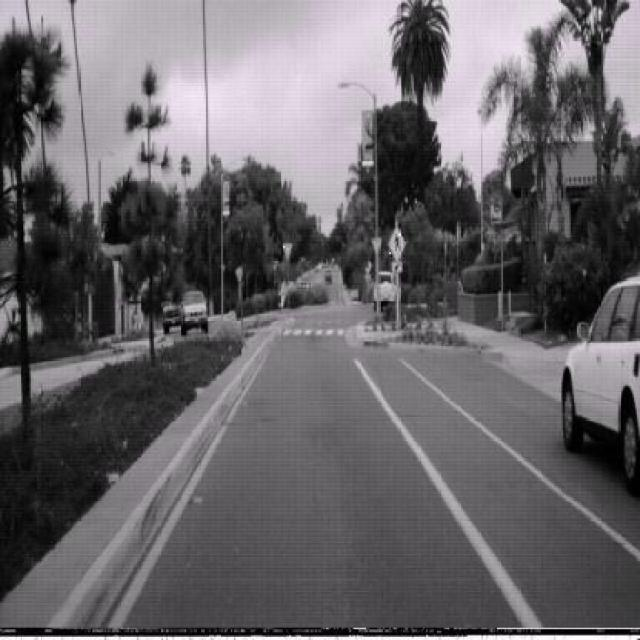pedestrianCrossing: (388, 223, 407, 263)
yield: (370, 236, 382, 256), (282, 242, 292, 262)
